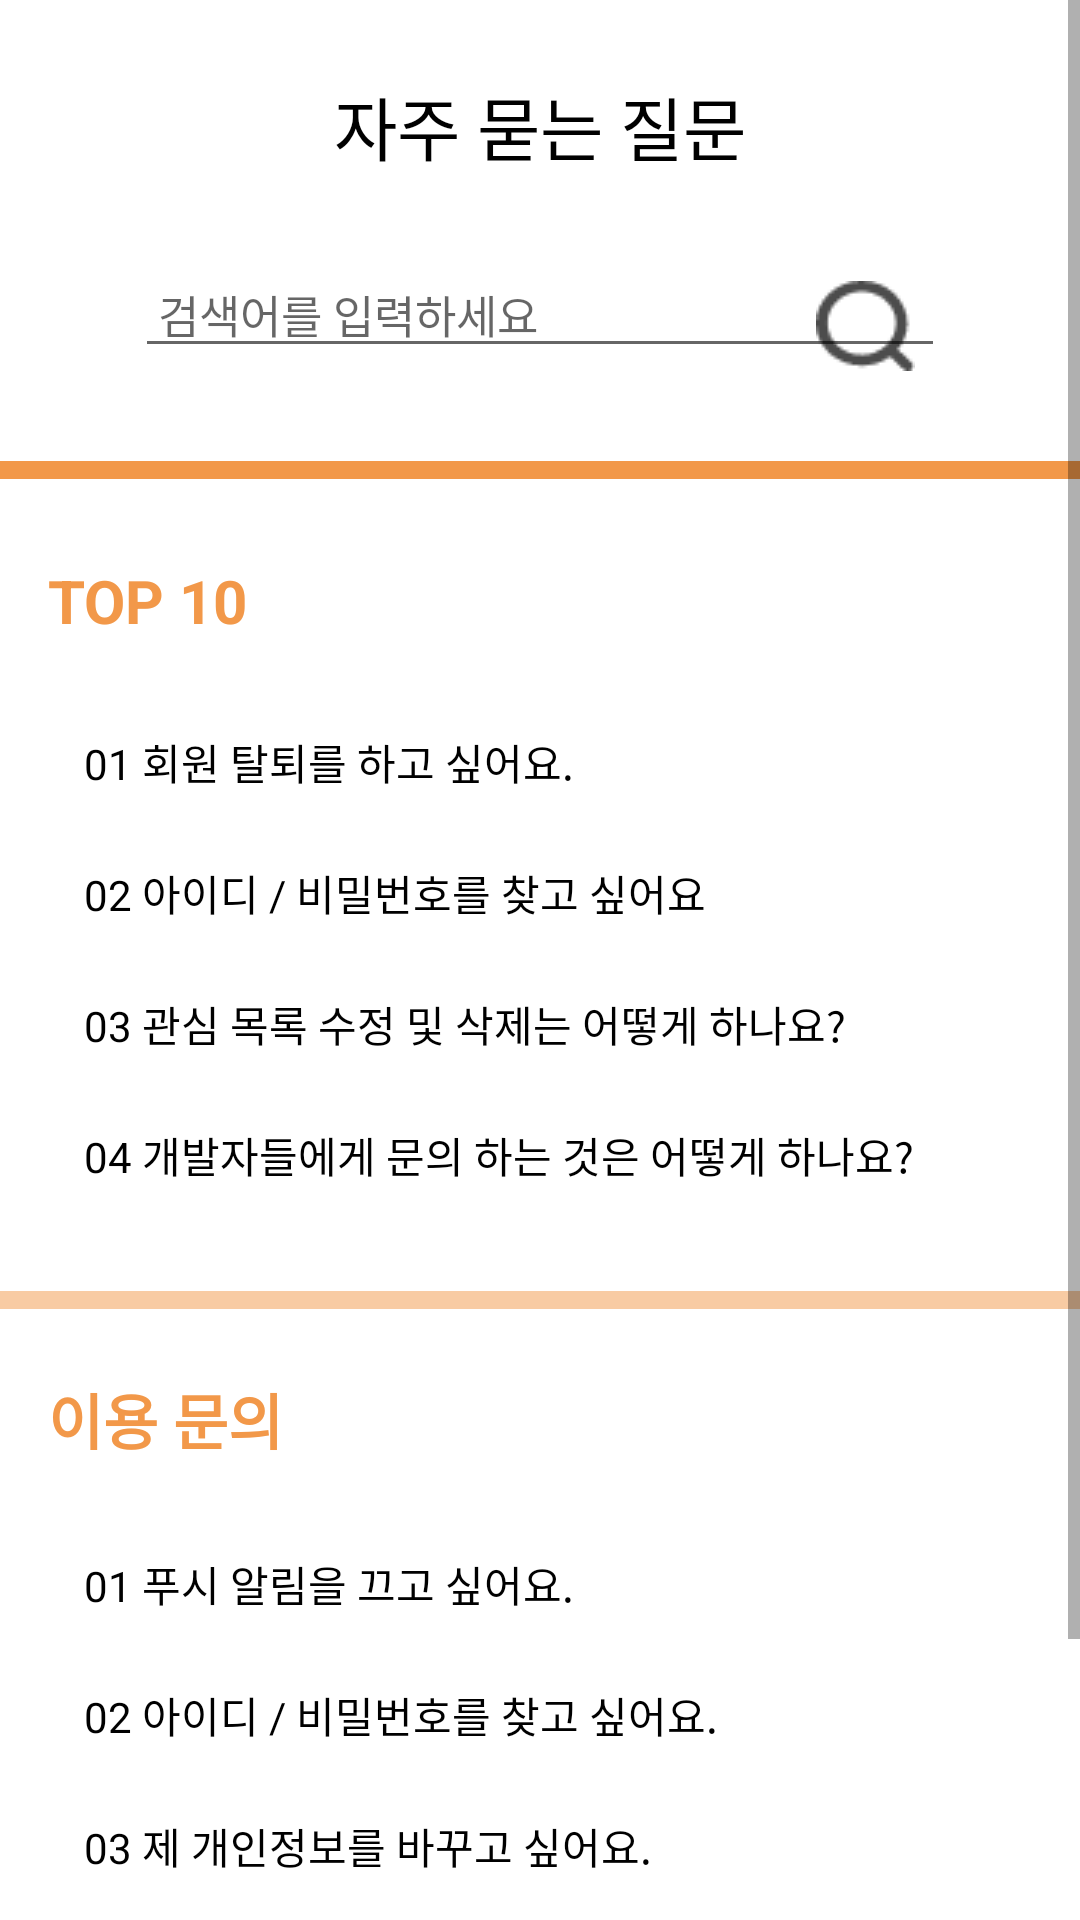

Screen size 1080×1920. Icon name, then its box in pixels as (x1, y1, x2, y2):
search: (816, 281, 915, 371)
